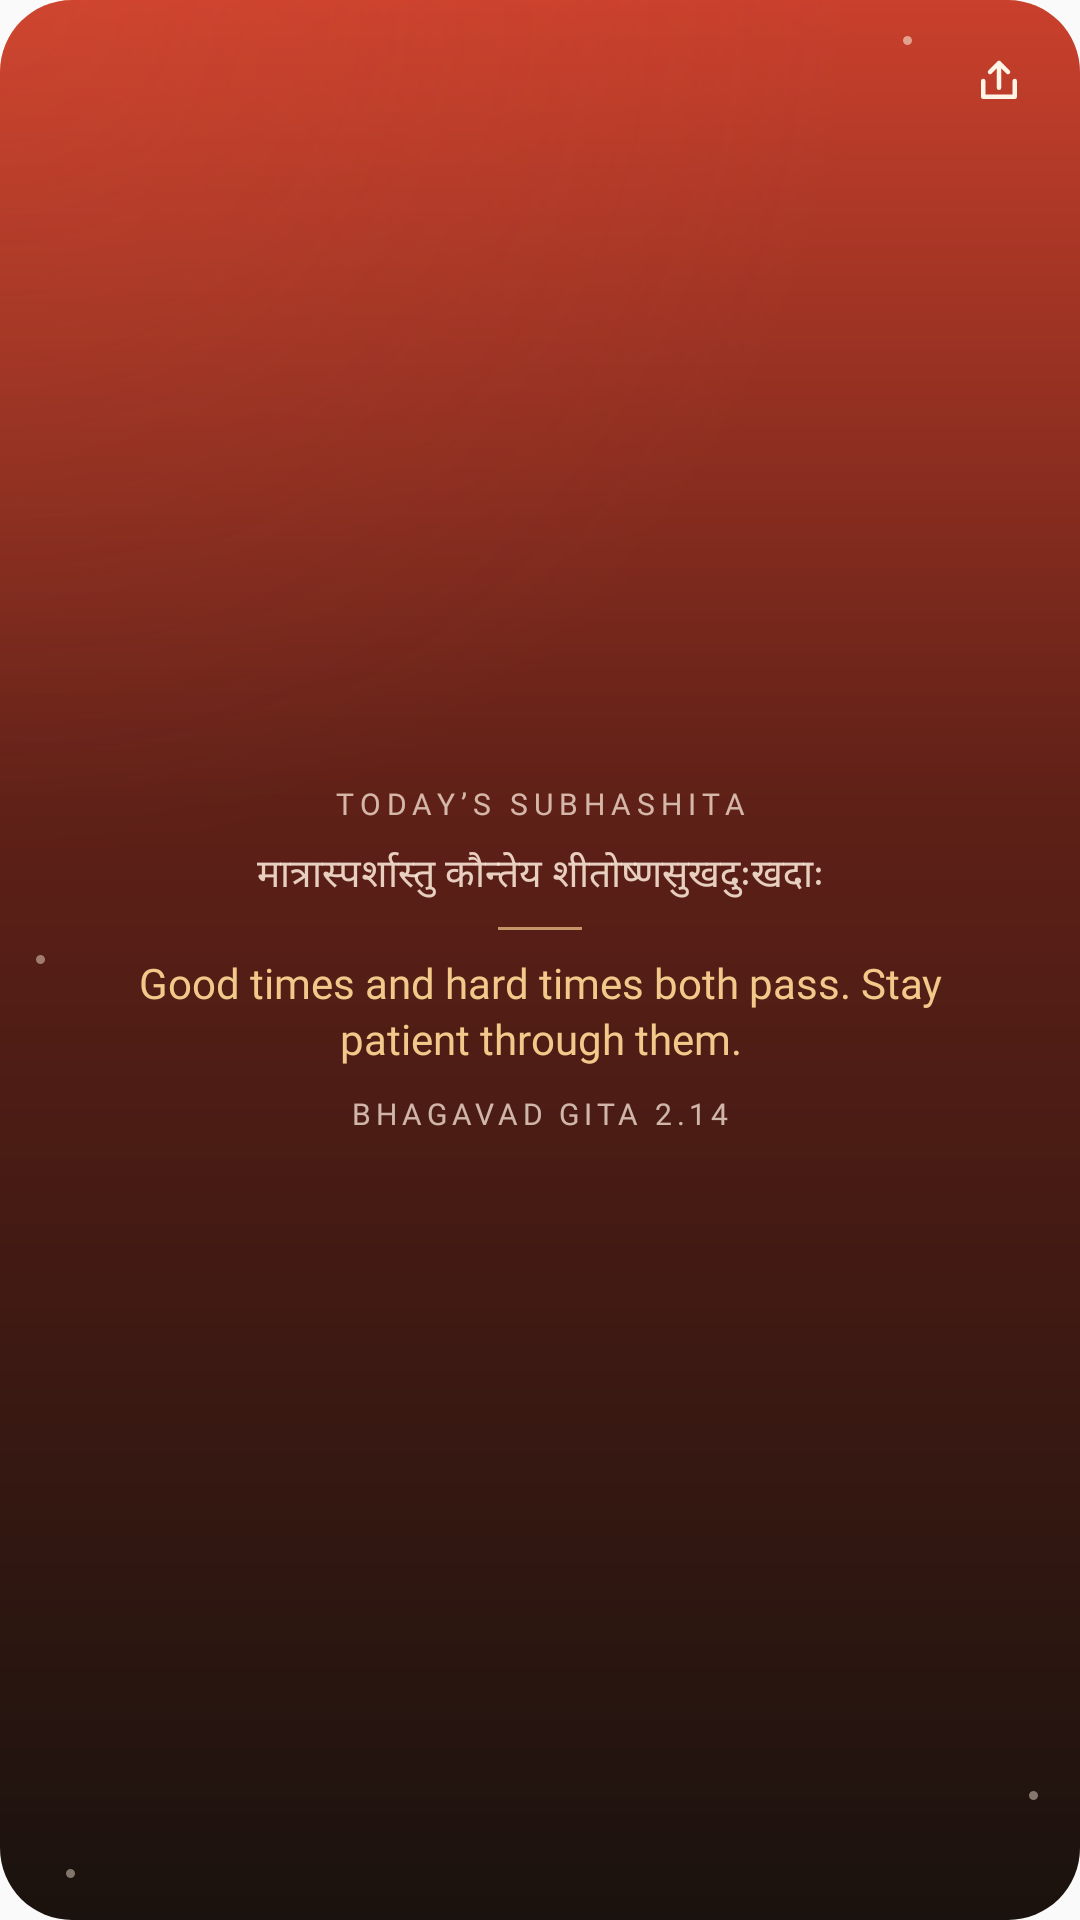

Screen size 1080 × 1920. Icon name, then its box in pixels as (x1,y1,x2,y2):
Open to share: (981,60,1017,99)
